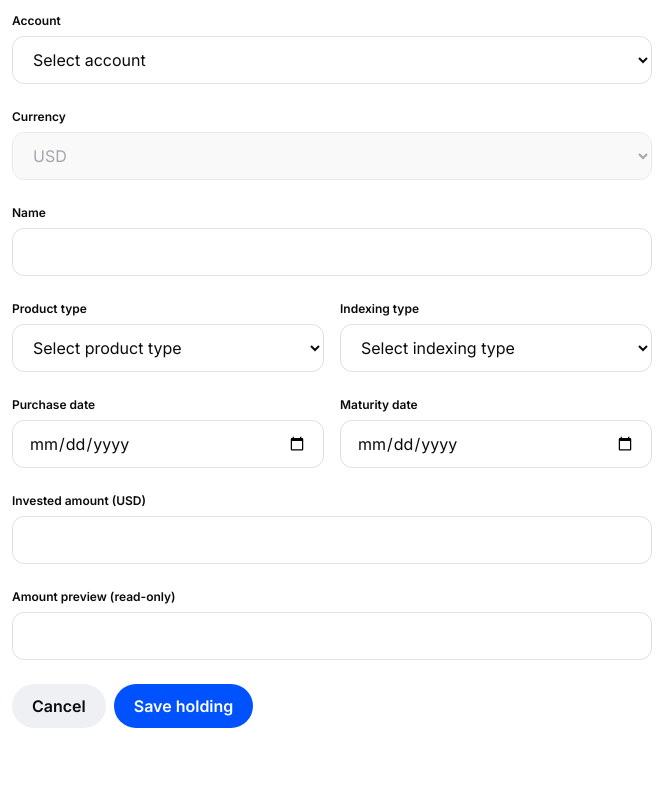
Scenario: BrFiForm indexing fields › shows CDI percentage and indicator picker for CDI Percentage indexing
Select "CDI Percentage" in the dropdown labelled "Indexing type": (496, 348) x1=340 y1=324 x2=652 y2=372
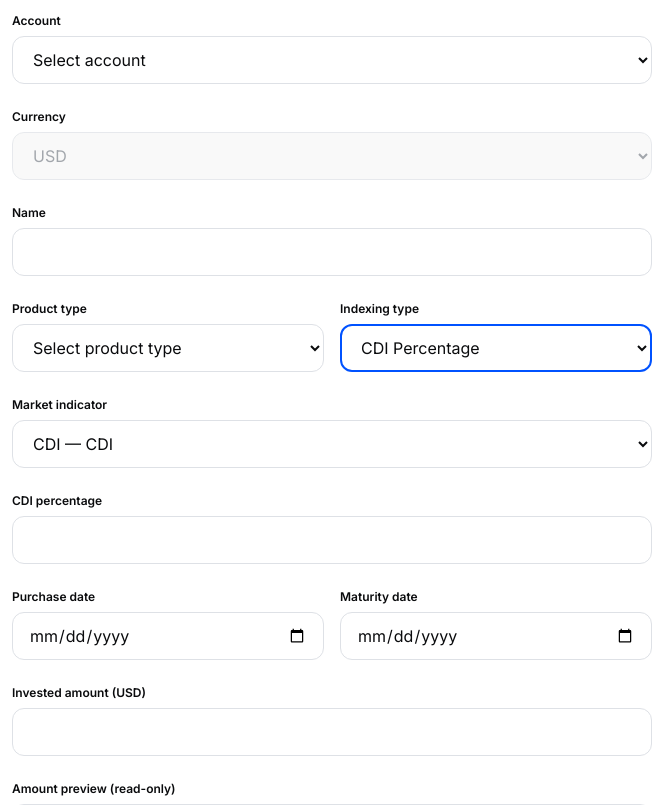
Expected: the number field labelled "CDI percentage" is shown, x1=12 y1=516 x2=652 y2=564
Now the dropdown labelled "Market indicator" is shown, box x1=12 y1=420 x2=652 y2=468
